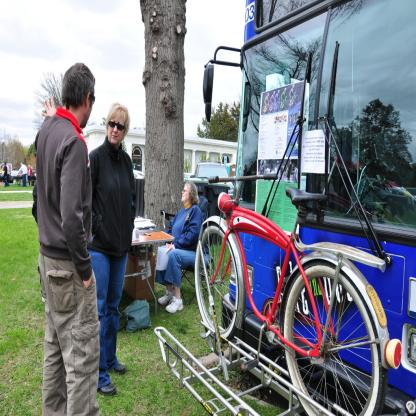Car: (192, 160, 236, 202), (134, 171, 146, 180), (185, 174, 194, 181)
